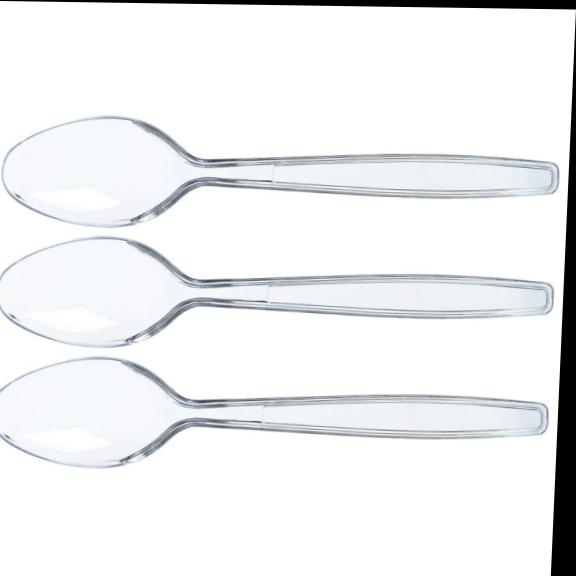Plastik: (0, 237, 552, 346), (0, 357, 547, 466), (4, 117, 558, 224)
